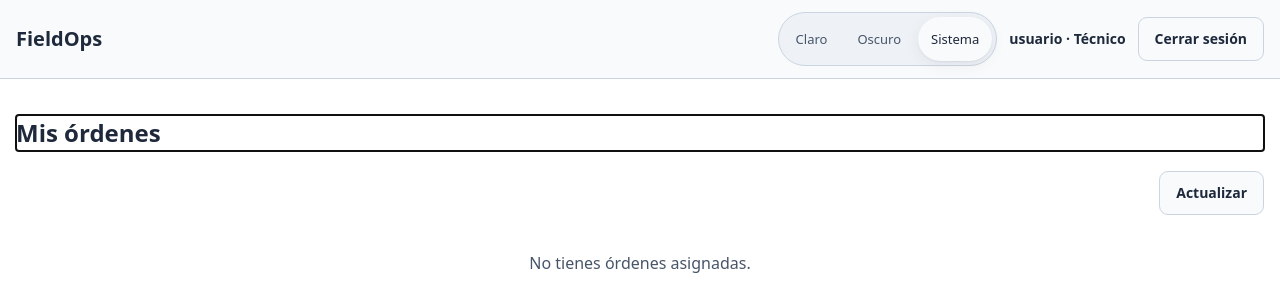
Scenario: US2 · listado por rol › FR-009b: «Actualizar» vuelve a pedir el listado
The image size is (1280, 297).
Expected: the text "No tienes órdenes asignadas." is shown, [529,252,751,274]
Click the button "Actualizar".
click(1212, 193)  # box [1159,171,1264,215]
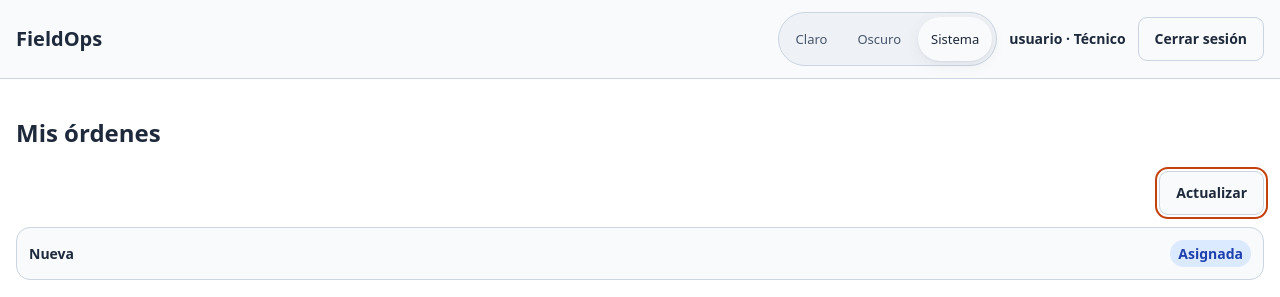
Expected: the text "Nueva" is shown, [29,244,74,263]
